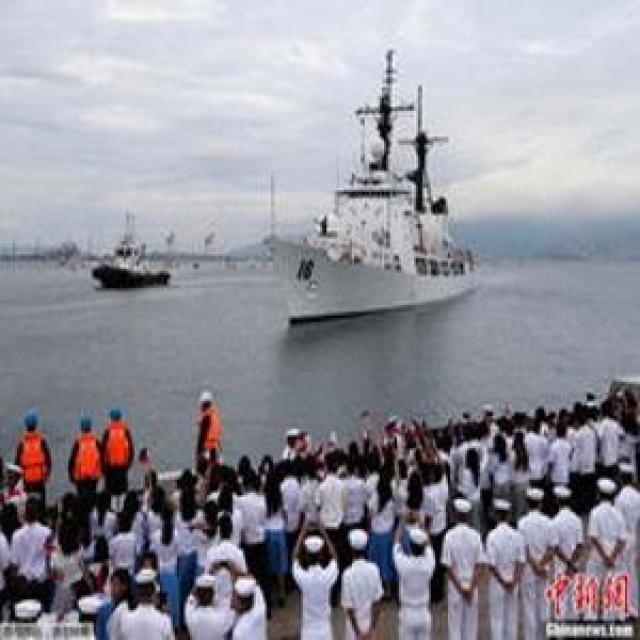navalvessels: (264, 40, 499, 319), (72, 216, 170, 289)
